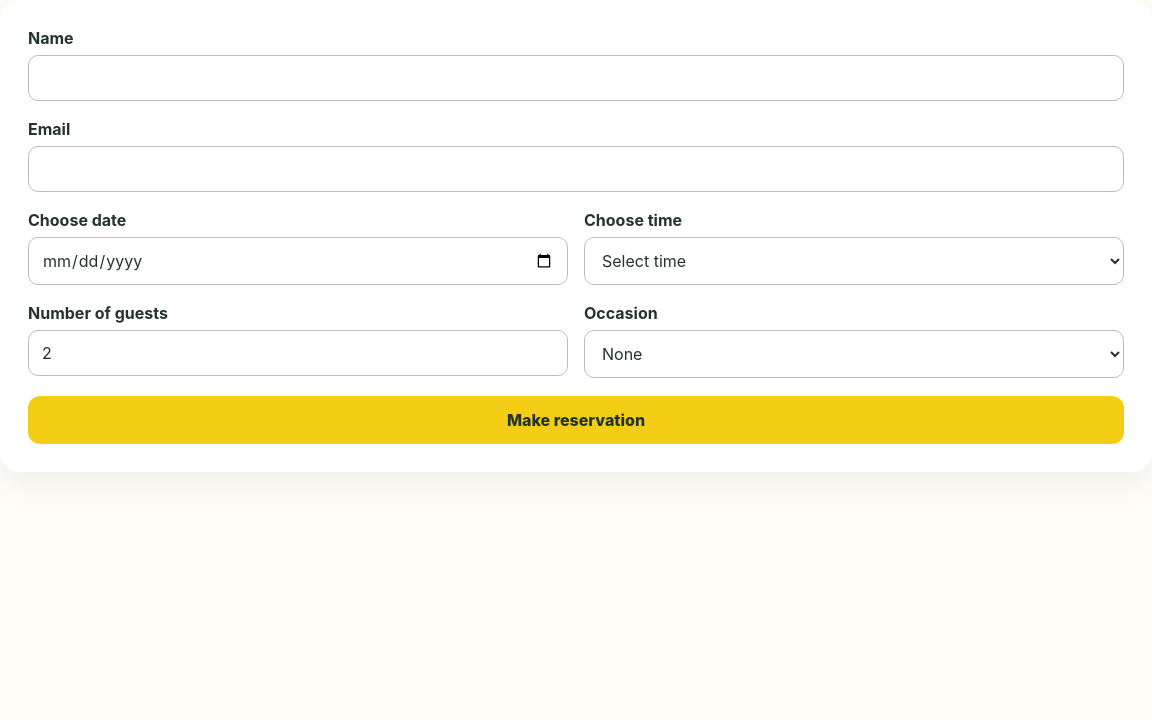
Test: BookingForm › rejects an invalid email address
This screenshot has width=1152, height=720.
In the field labelled "Name": {"x": 576, "y": 78} [28,55,1124,101], type "Omar"
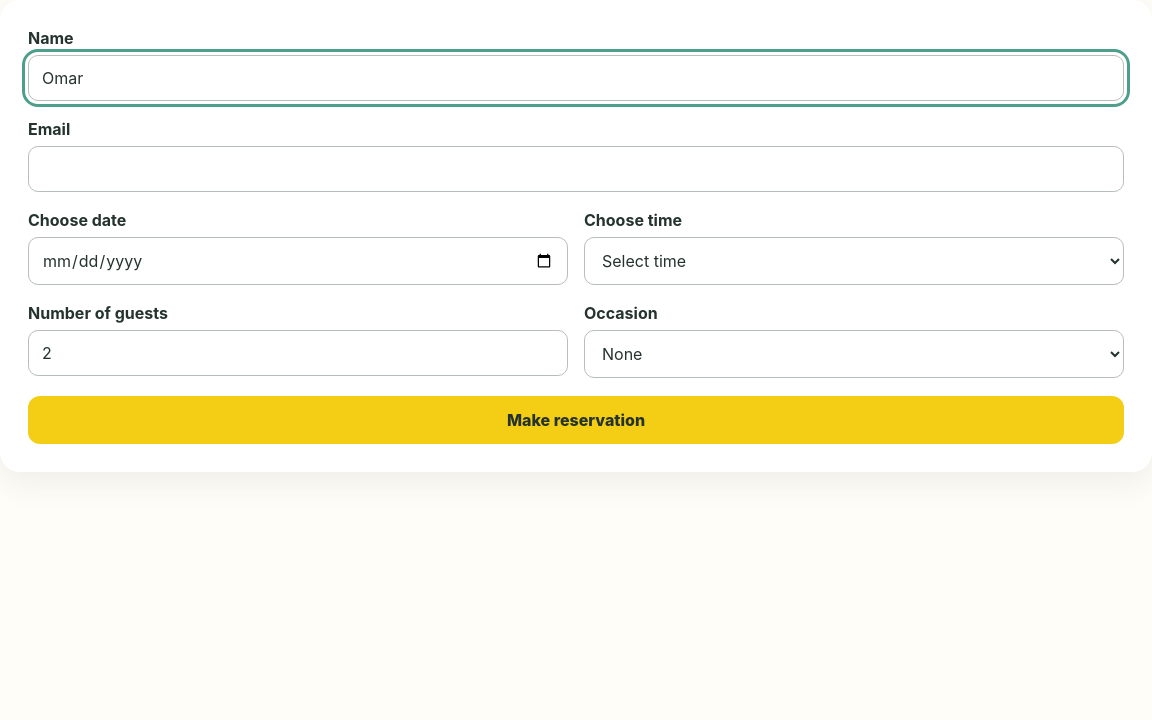
In the field labelled "Email": {"x": 576, "y": 169} [28,146,1124,192], type "invalid-email"
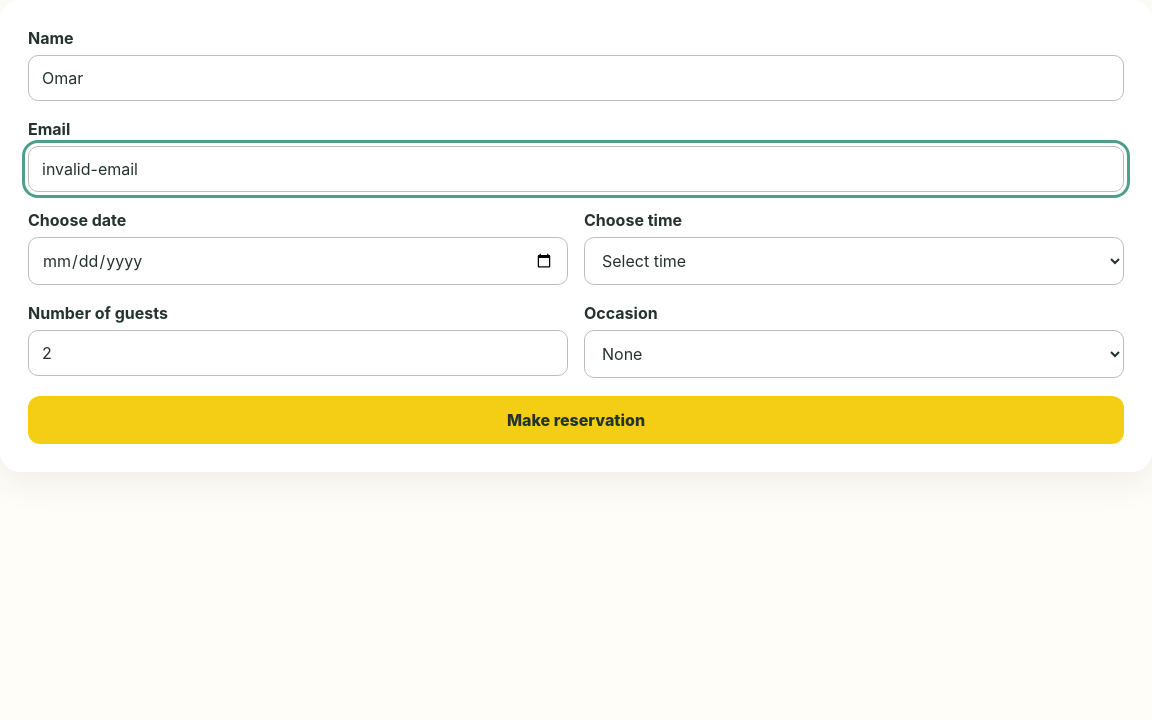
Click the button "Make reservation": {"x": 576, "y": 420} [28,396,1124,444]
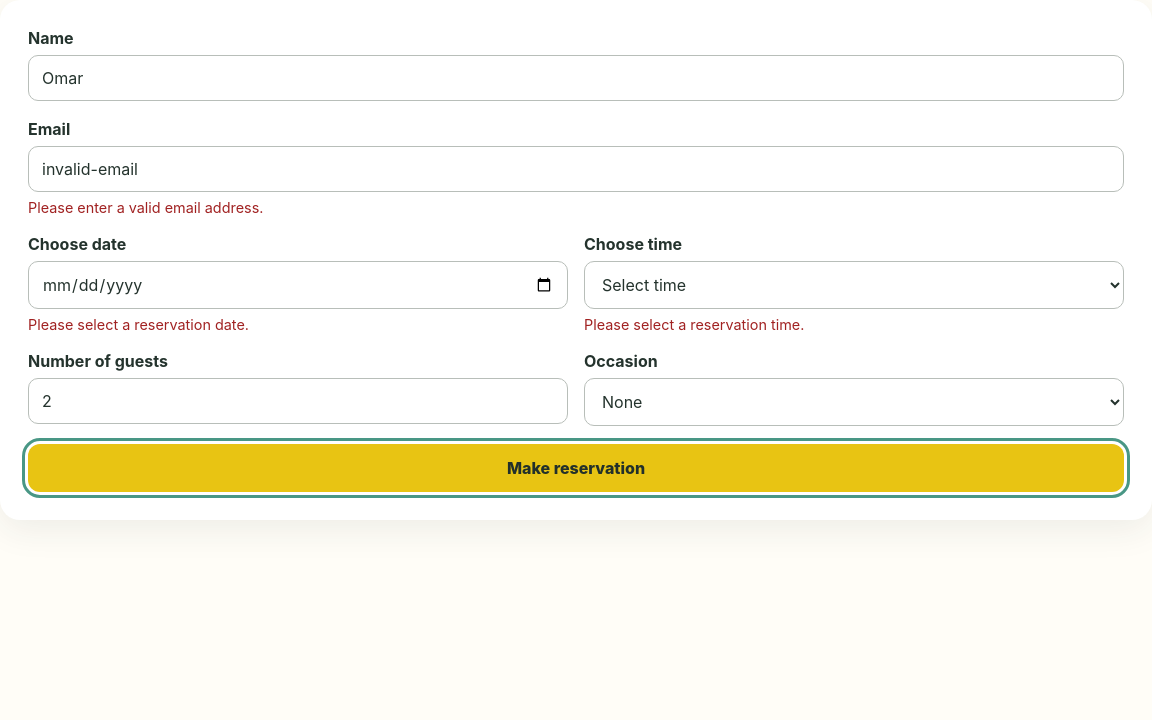
Check: the text "Please enter a valid email address." is shown, box [28,199,263,216]
